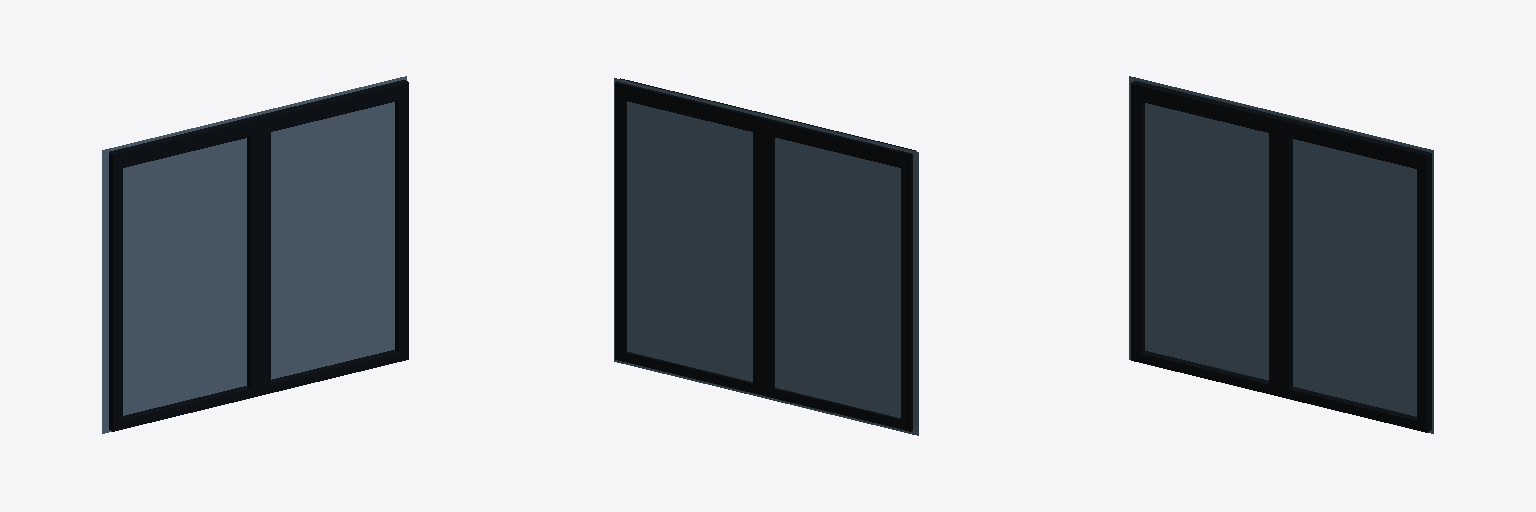
The model's file is chuang5.obj.
3 views of the same model, side by side, from view 1: azimuth 30°, elevation 25°; view 2: azimuth 150°, elevation 25°; view 3: azimuth 330°, elevation 25° (orthographic).
Visible parts, largest first — view 1: Rectangle[number redacted], Rectangle[number redacted]; view 2: Rectangle[number redacted], Rectangle[number redacted]; view 3: Rectangle[number redacted], Rectangle[number redacted].
Boxes of the visible parts, <box> form: Rectangle[number redacted]: <box>102,76,406,433</box>; Rectangle[number redacted]: <box>109,80,408,431</box>; Rectangle[number redacted]: <box>614,78,918,435</box>; Rectangle[number redacted]: <box>615,78,915,431</box>; Rectangle[number redacted]: <box>1129,76,1433,433</box>; Rectangle[number redacted]: <box>1131,81,1431,432</box>.
Bounding box in the file's own units: 18 × 16.04 × 0.6.